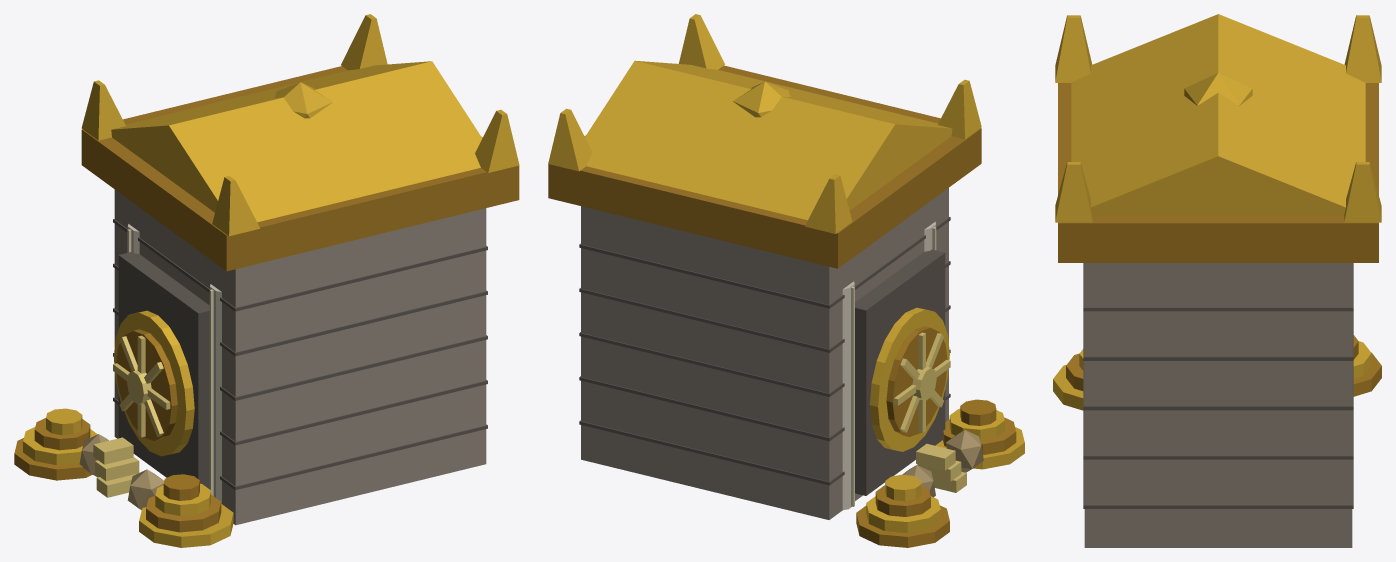
File: Decor_DogeAltar_Vault.fbx
3 renders of one model, left to right at view 1: azimuth 30°, elevation 25°; view 2: azimuth 150°, elevation 25°; view 3: azimuth 270°, elevation 25°, orthographic. The views are drawn at different scales.
Visible parts, largest first — view 1: Vault_Body; view 2: Vault_Body; view 3: Vault_Body.
Boxes of the visible parts, <box> form: Vault_Body: <box>14,14,519,547</box>; Vault_Body: <box>548,14,1024,547</box>; Vault_Body: <box>1053,14,1381,547</box>.
Bounding box in the file's own units: 17.5 × 16.5 × 12.
